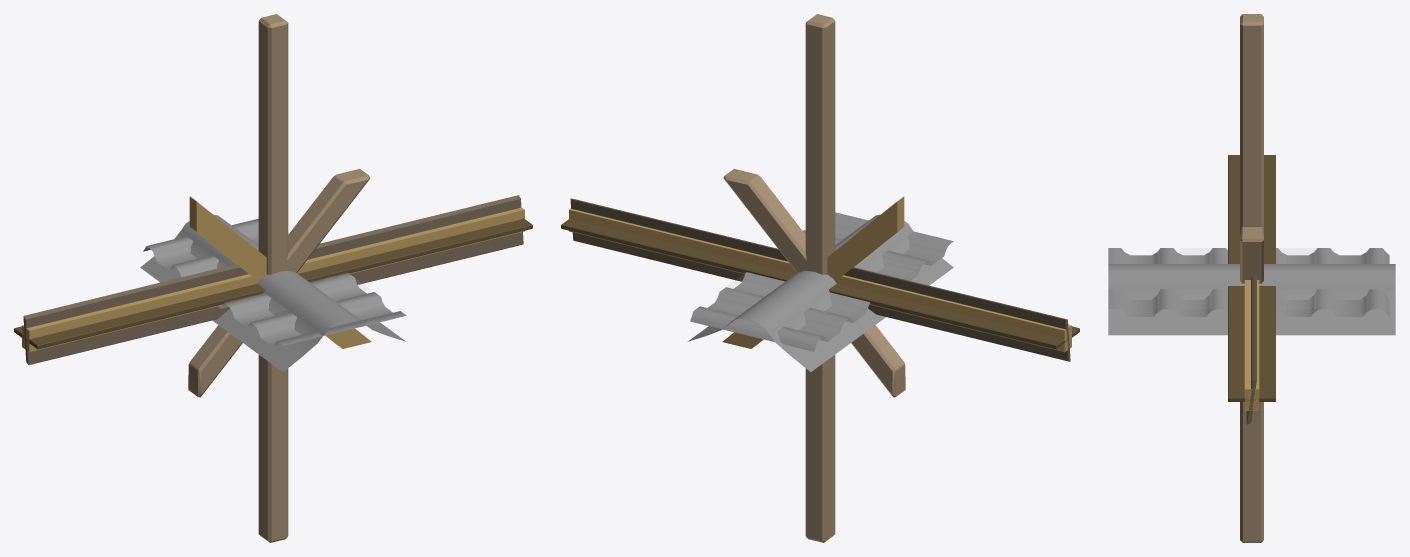
File: wooden_shed_assets.fbx
3 renders of one model, left to right at view 1: azimuth 30°, elevation 25°; view 2: azimuth 150°, elevation 25°; view 3: azimuth 270°, elevation 25°, orthographic.
Visible parts, largest first — view 1: square_wood_1_1, wood_plank_1_1, roof_gable_sheet_metal, wood_bar_1_1, trapezoidal_sheet_metal, wood_floor_board_1_1, wood_square_wood_angle_1_2, corrugated_sheet_metal, square_wood_1_2, wood_bar_angle_1_2, wood_floor_board_1_3, wood_bar_1_2 (+4 smaller); view 2: square_wood_1_1, roof_gable_sheet_metal, wood_plank_1_1, wood_bar_1_1, wood_floor_board_1_1, trapezoidal_sheet_metal, wood_square_wood_angle_1_2, corrugated_sheet_metal, wood_bar_angle_1_2, square_wood_1_2, square_wood_1_4, wood_plank_1_3 (+2 smaller); view 3: roof_gable_sheet_metal, square_wood_1_1, wood_floor_board_1_1, corrugated_sheet_metal, trapezoidal_sheet_metal, wood_bar_1_1, wood_square_wood_angle_1_2, wood_plank_1_1, wood_floor_board_1_2, wood_square_wood_angle_1_3.
Part boxes in pixels (x1,y1,x2,y2): square_wood_1_1: (258, 14, 288, 542); wood_plank_1_1: (23, 195, 523, 364); roof_gable_sheet_metal: (140, 214, 406, 371); wood_bar_1_1: (22, 207, 524, 352); trapezoidal_sheet_metal: (143, 218, 406, 346); wood_floor_board_1_1: (14, 218, 532, 349); wood_square_wood_angle_1_2: (188, 168, 370, 397); corrugated_sheet_metal: (143, 230, 402, 344); square_wood_1_2: (258, 151, 288, 411); wood_bar_angle_1_2: (189, 196, 371, 348); wood_floor_board_1_3: (195, 259, 367, 308); wood_bar_1_2: (150, 238, 400, 321); square_wood_1_1: (805, 14, 835, 542); roof_gable_sheet_metal: (687, 214, 953, 371); wood_plank_1_1: (570, 198, 1070, 361); wood_bar_1_1: (569, 208, 1071, 352); wood_floor_board_1_1: (561, 218, 1079, 349); trapezoidal_sheet_metal: (690, 212, 953, 351); wood_square_wood_angle_1_2: (723, 168, 905, 397); corrugated_sheet_metal: (690, 212, 950, 350); wood_bar_angle_1_2: (722, 196, 904, 348); square_wood_1_2: (806, 151, 835, 411); square_wood_1_4: (805, 218, 825, 274); wood_plank_1_3: (738, 241, 902, 320); roof_gable_sheet_metal: (1108, 264, 1395, 335); square_wood_1_1: (1240, 14, 1263, 542); wood_floor_board_1_1: (1228, 155, 1275, 401); corrugated_sheet_metal: (1108, 248, 1389, 315); trapezoidal_sheet_metal: (1108, 248, 1389, 316); wood_bar_1_1: (1244, 280, 1259, 410); wood_square_wood_angle_1_2: (1240, 227, 1263, 281); wood_plank_1_1: (1246, 274, 1256, 424); wood_floor_board_1_2: (1228, 216, 1275, 336); wood_square_wood_angle_1_3: (1240, 257, 1263, 282).
Size of the model in its own units: 24 by 24 by 12.
